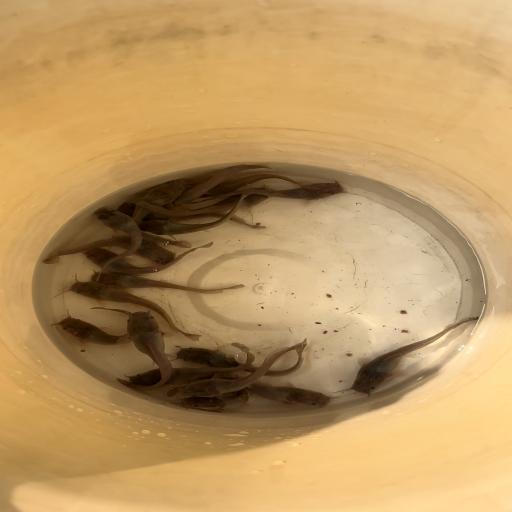lele: (346, 316, 481, 397), (66, 280, 202, 342), (176, 338, 308, 397), (122, 342, 257, 389), (169, 335, 308, 377), (137, 187, 256, 234), (115, 310, 174, 394), (174, 344, 310, 377), (43, 236, 175, 269), (119, 202, 267, 231), (52, 304, 153, 346), (90, 268, 247, 295), (90, 204, 143, 280), (87, 241, 214, 272), (172, 162, 272, 200), (198, 180, 345, 202), (168, 374, 253, 410), (123, 179, 189, 225), (244, 380, 334, 410), (204, 173, 319, 194)
